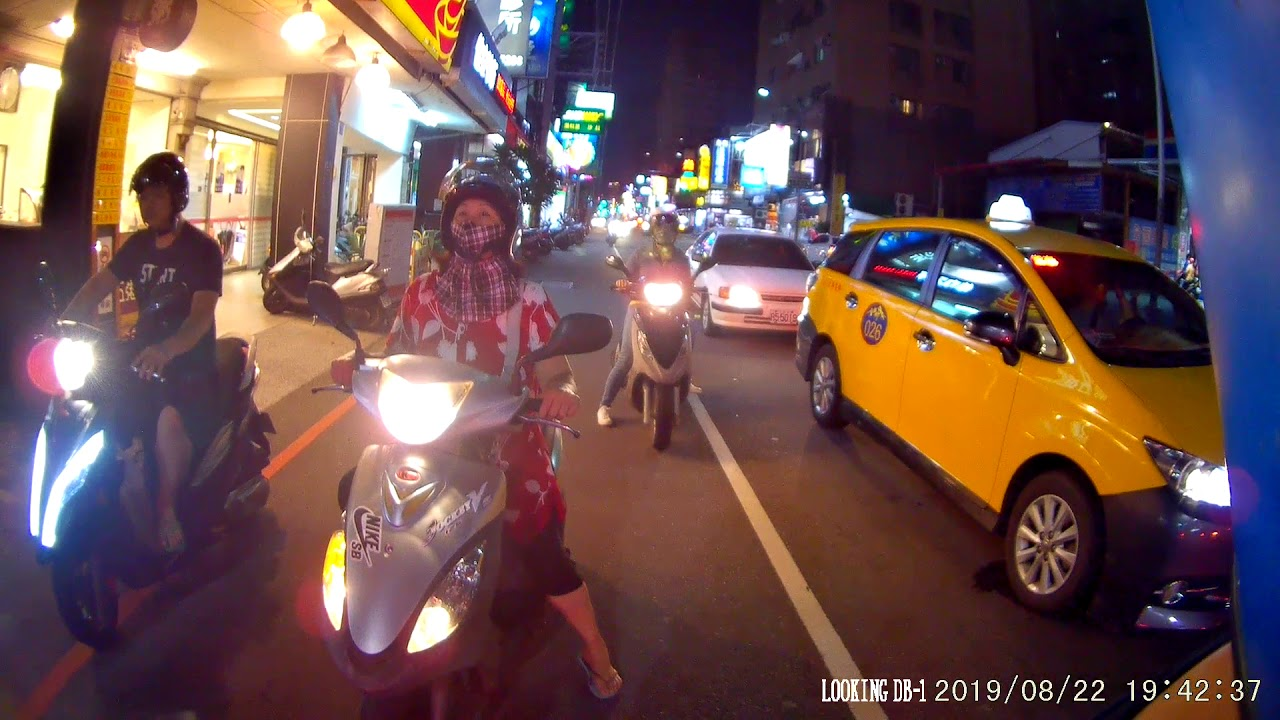bike: (324, 172, 579, 720), (28, 155, 260, 652), (623, 215, 698, 453), (273, 215, 387, 327)
car: (822, 203, 1239, 622), (691, 215, 818, 329)
